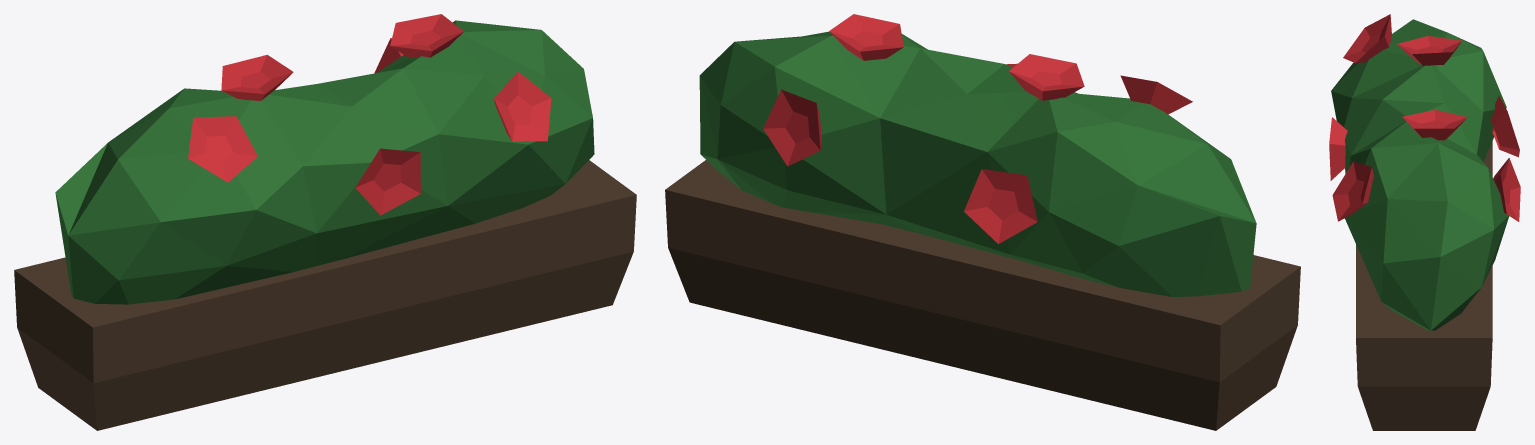
Rendered from props_flowers-window.fbx.
3 renders of one model, left to right at view 1: azimuth 30°, elevation 25°; view 2: azimuth 150°, elevation 25°; view 3: azimuth 270°, elevation 25°, orthographic. The views are drawn at different scales.
Visible parts, largest first — view 1: props_flowers_window; view 2: props_flowers_window; view 3: props_flowers_window.
Boxes of the visible parts, box(x1,y1,x2,y2) form: props_flowers_window: box(14, 14, 636, 430); props_flowers_window: box(665, 14, 1300, 430); props_flowers_window: box(1329, 14, 1520, 430).
Bounding box in the file's own units: 200 × 102 × 70.11.
